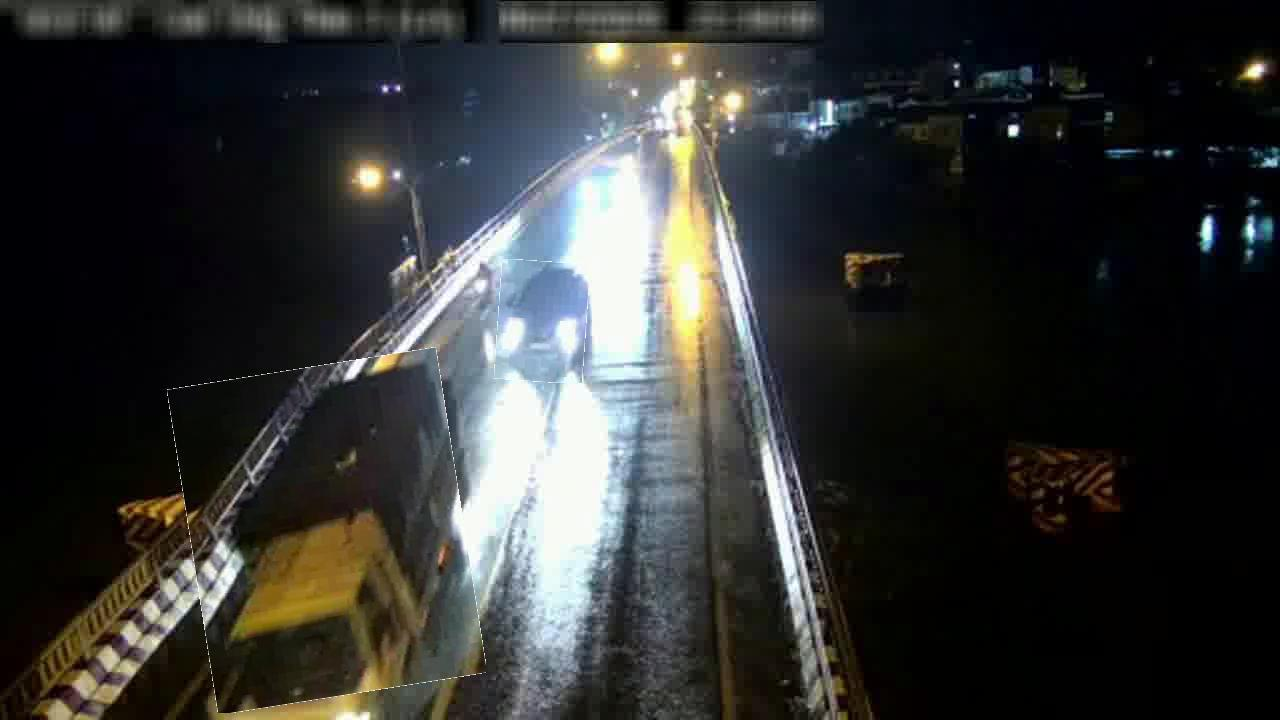8: (179, 357, 475, 705)
container: (496, 261, 588, 383)
